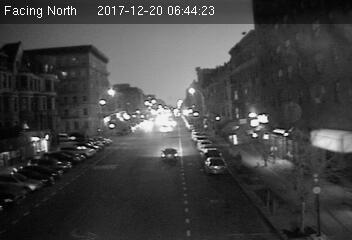car: (204, 156, 228, 174), (159, 147, 180, 164)
